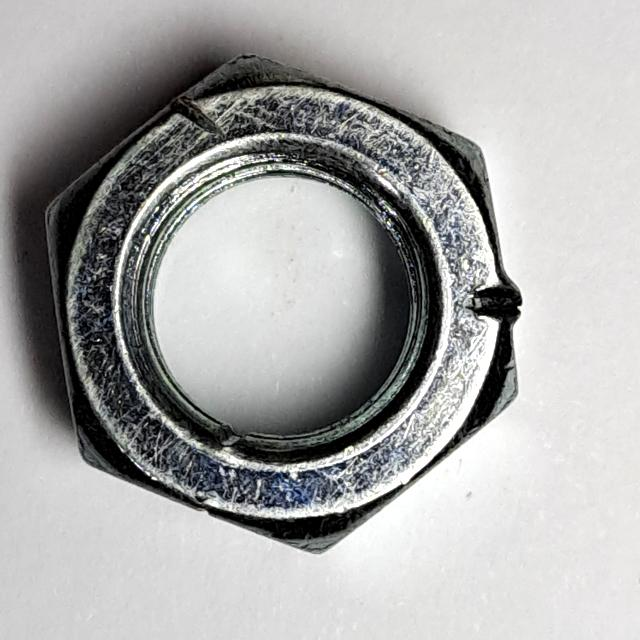Scratches: (30, 38, 546, 575)
